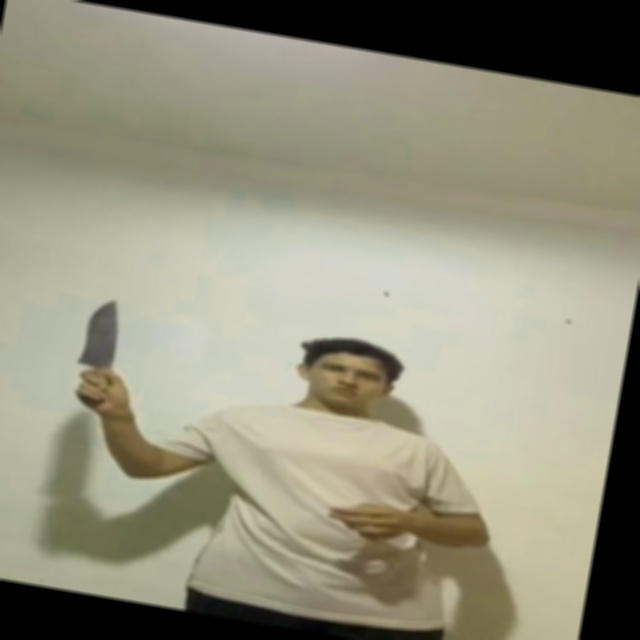Sharp-Object: (75, 295, 125, 369)
